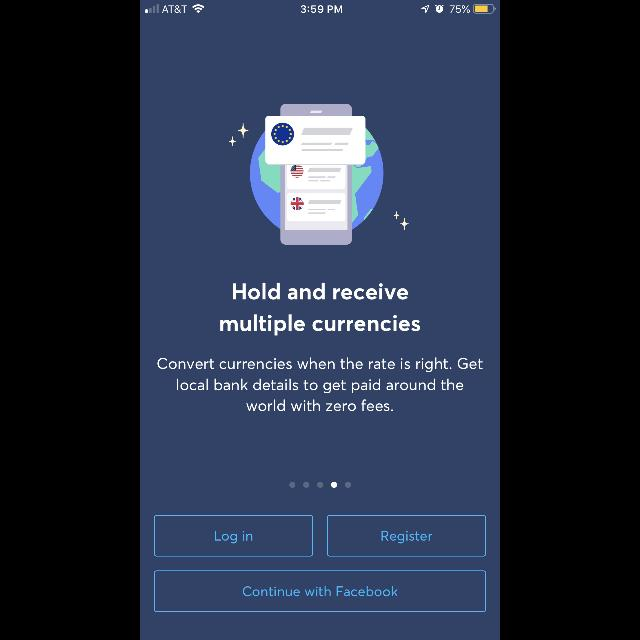image: (229, 103, 409, 244)
pageindicator: (289, 482, 351, 488)
text: (158, 357, 482, 411), (220, 282, 420, 336)
textbutton: (154, 570, 486, 612), (328, 515, 487, 557), (154, 515, 312, 557)
uppertaskbar: (140, 0, 500, 14)
